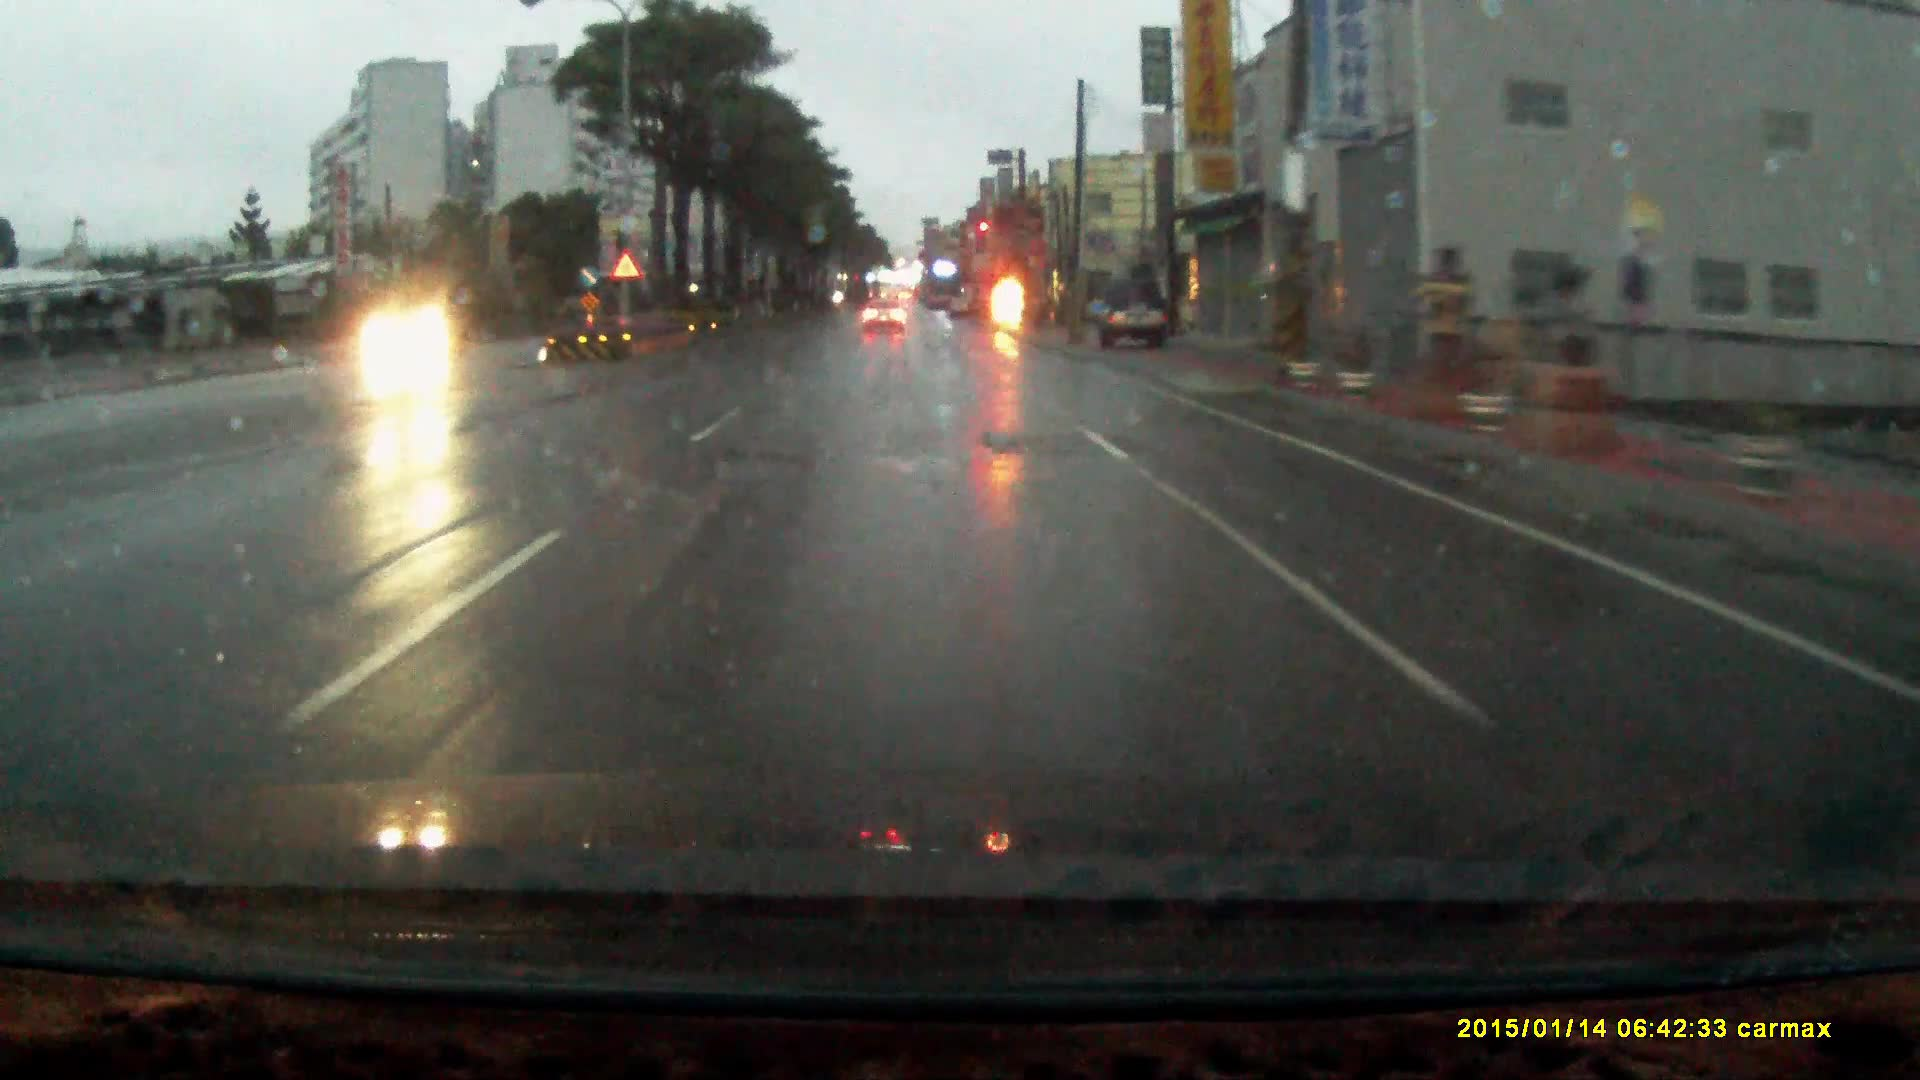vehicle: (1098, 281, 1172, 353), (862, 302, 909, 339)
